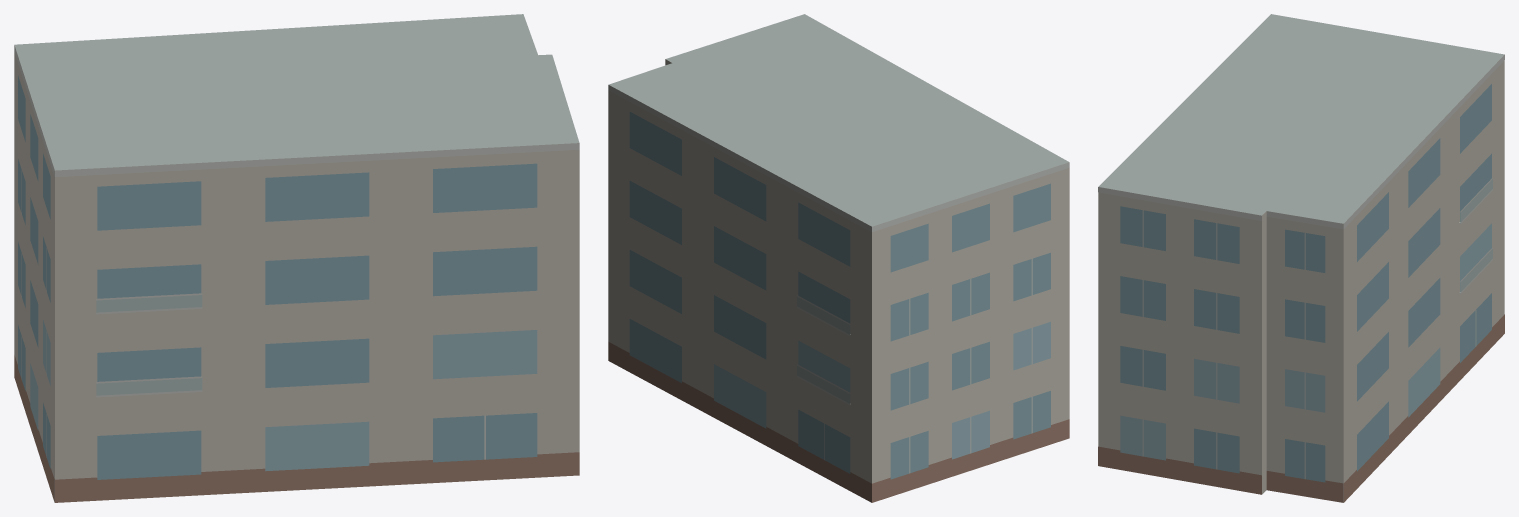
The model's file is survey-upis-32847897.glb.
The picture shows the model from 3 angles, left to right: view 1: azimuth 30°, elevation 25°; view 2: azimuth 150°, elevation 25°; view 3: azimuth 270°, elevation 25°; orthographic projection. The views are drawn at different scales.
Parts seen in each view (by area): view 1: survey-upis-32847897.tmp; view 2: survey-upis-32847897.tmp; view 3: survey-upis-32847897.tmp.
Boxes of the visible parts, x1,y1,x2,y2 form: survey-upis-32847897.tmp: (14, 14, 579, 502); survey-upis-32847897.tmp: (608, 14, 1069, 502); survey-upis-32847897.tmp: (1098, 14, 1504, 502).
Bounding box in the file's own units: 19.67 × 12.2 × 16.12.
